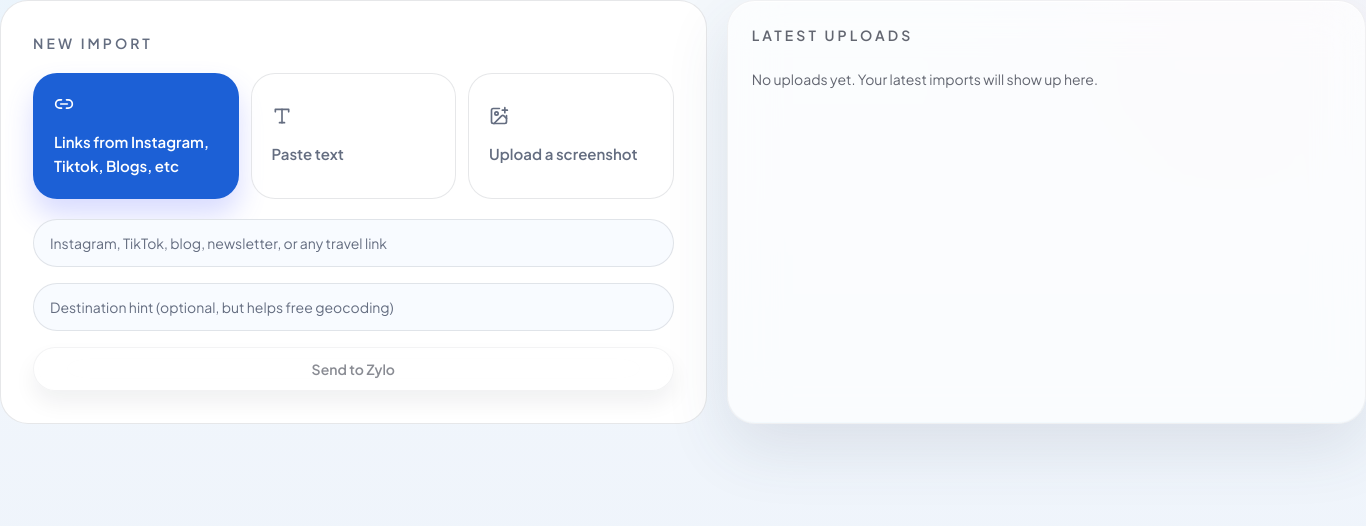
Test case: ImportWorkbench › surfaces API errors to the user
Type "https://www.instagram.com/reel/test" into the field with placeholder "Instagram, TikTok, blog, newsletter, or any travel link" at (353, 243), box [33, 219, 674, 267]
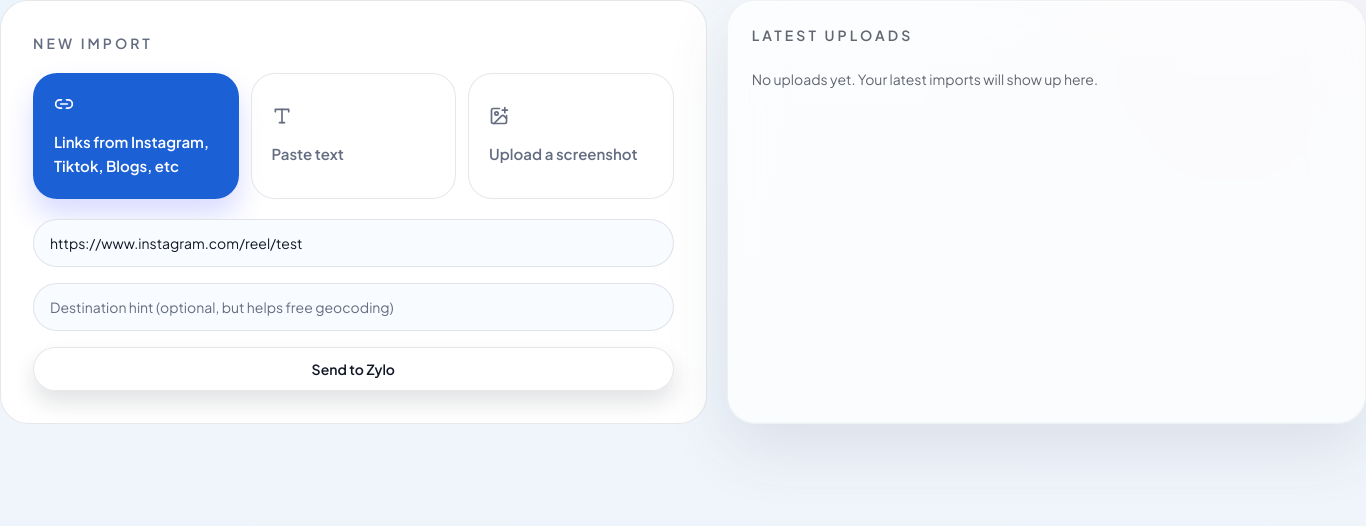
Type "Kyoto" into the field with placeholder "Destination hint (optional, but helps free geocoding)" at (353, 307), box [33, 283, 674, 331]
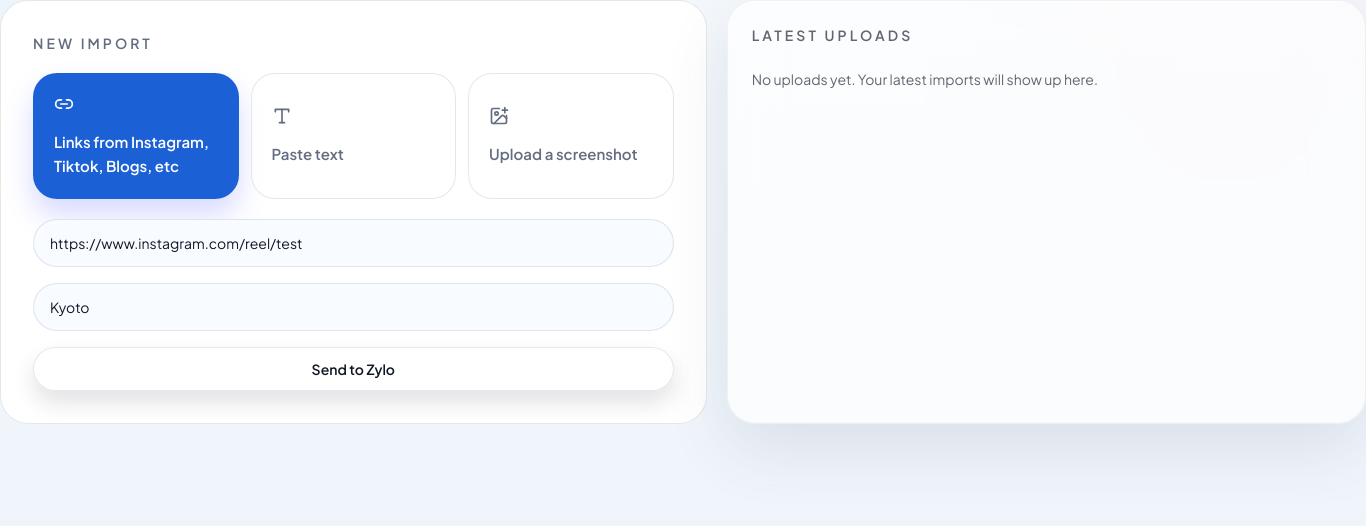
Click the button "Send to Zylo" at (353, 369), box [33, 347, 674, 391]
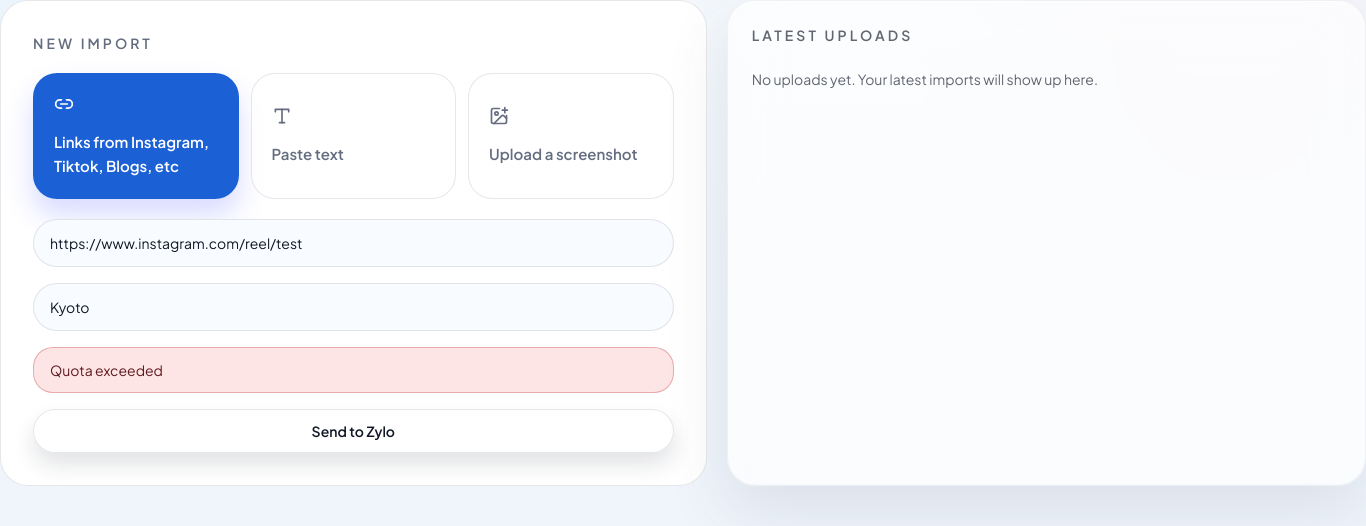
Check: the text "Quota exceeded" is shown, box [50, 360, 163, 380]
